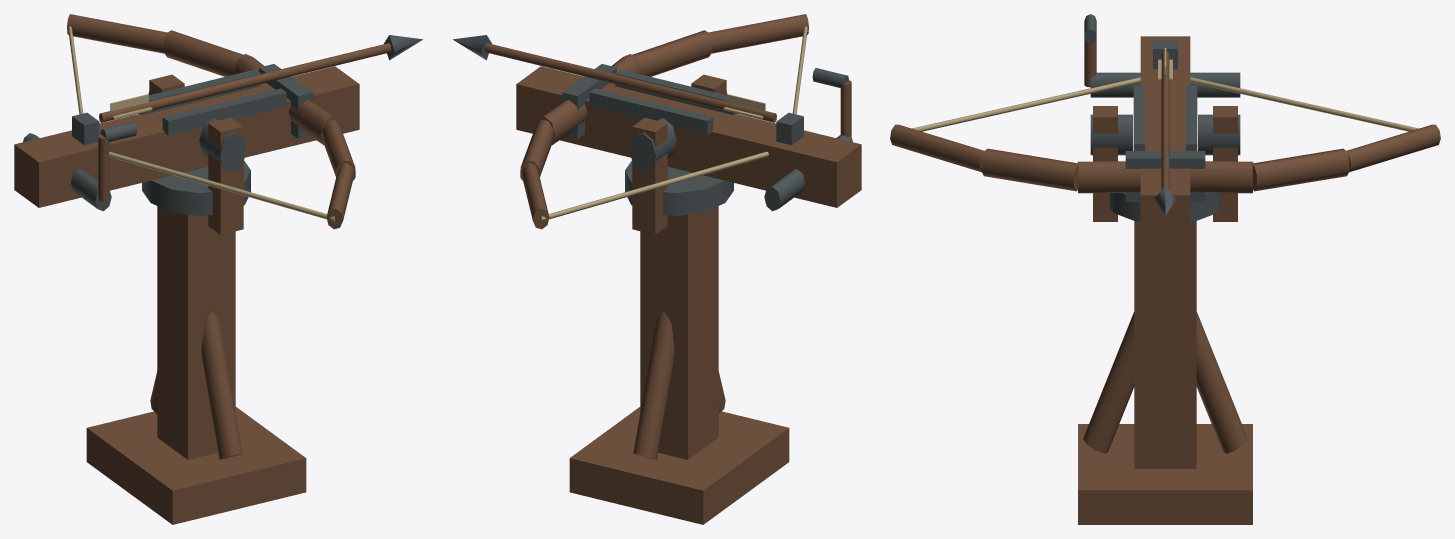
3 views of the same model, side by side, from view 1: azimuth 30°, elevation 25°; view 2: azimuth 150°, elevation 25°; view 3: azimuth 270°, elevation 25° (orthographic).
Parts seen in each view (by area): view 1: Mesh_TimberFrameAndBow, Mesh_SteelFittings, Mesh_StringAndFletching; view 2: Mesh_TimberFrameAndBow, Mesh_SteelFittings, Mesh_StringAndFletching; view 3: Mesh_TimberFrameAndBow, Mesh_SteelFittings, Mesh_StringAndFletching.
Part boxes in pixels (left/top/right/bottom): Mesh_TimberFrameAndBow: left=14, top=14, right=391, bottom=524; Mesh_SteelFittings: left=23, top=35, right=422, bottom=215; Mesh_StringAndFletching: left=68, top=26, right=334, bottom=221; Mesh_TimberFrameAndBow: left=484, top=14, right=861, bottom=524; Mesh_SteelFittings: left=453, top=35, right=852, bottom=215; Mesh_StringAndFletching: left=541, top=26, right=807, bottom=221; Mesh_TimberFrameAndBow: left=890, top=36, right=1440, bottom=524; Mesh_SteelFittings: left=1084, top=14, right=1240, bottom=221; Mesh_StringAndFletching: left=912, top=48, right=1418, bottom=131.
Bounding box in the file's own units: 1.46 × 1.42 × 1.72.
